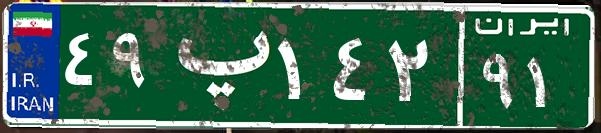1: (273, 28, 330, 110), (525, 38, 570, 115)
2: (385, 28, 445, 110)
4: (330, 28, 385, 110), (57, 26, 110, 107)
9: (475, 38, 525, 113), (110, 28, 158, 105)
پ: (158, 15, 273, 115)
